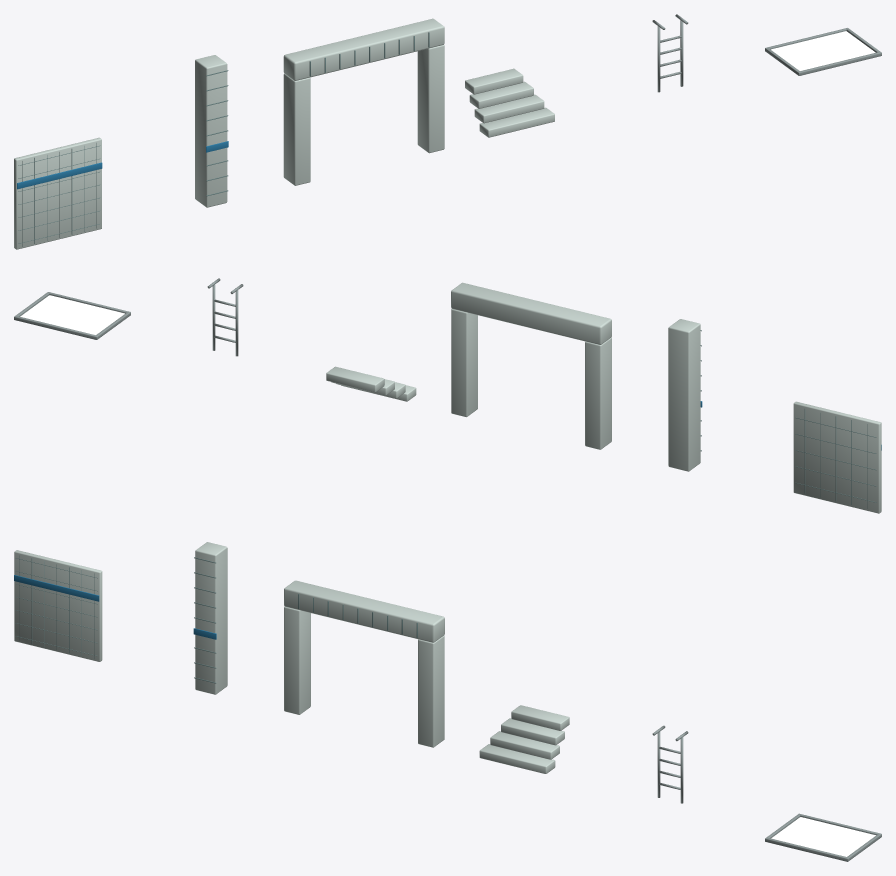
3 renders of one model, top to bottom at view 1: azimuth 30°, elevation 25°; view 2: azimuth 150°, elevation 25°; view 3: azimuth 330°, elevation 25°, orthographic.
Parts seen in each view (by area): view 1: tile_panel_core, pillar_core, arch_header, arch_jamb, arch_jamb.001, skylight_diffuser, pool_step, pool_step.001, pool_step.002, pool_step.003, waterline_mosaic; view 2: tile_panel_core, pillar_core, arch_header, arch_jamb, arch_jamb.001, skylight_diffuser, pool_step.003; view 3: tile_panel_core, pillar_core, arch_header, arch_jamb.001, arch_jamb, skylight_diffuser, pool_step, pool_step.001, pool_step.002, pool_step.003.
Part boxes in pixels (left/top/right/bottom): tile_panel_core: left=14, top=137, right=101, bottom=249; pillar_core: left=195, top=55, right=227, bottom=207; arch_header: left=283, top=18, right=444, bottom=80; arch_jamb: left=283, top=73, right=310, bottom=185; arch_jamb.001: left=417, top=45, right=444, bottom=153; skylight_diffuser: left=771, top=31, right=875, bottom=70; pool_step: left=479, top=107, right=554, bottom=137; pool_step.001: left=474, top=94, right=544, bottom=123; pool_step.002: left=469, top=81, right=533, bottom=108; pool_step.003: left=465, top=68, right=523, bottom=94; waterline_mosaic: left=17, top=162, right=102, bottom=189; tile_panel_core: left=793, top=401, right=881, bottom=513; pillar_core: left=668, top=319, right=700, bottom=471; arch_header: left=451, top=282, right=611, bottom=344; arch_jamb: left=585, top=337, right=611, bottom=449; arch_jamb.001: left=451, top=309, right=477, bottom=417; skylight_diffuser: left=20, top=295, right=124, bottom=334; pool_step.003: left=326, top=366, right=384, bottom=392; tile_panel_core: left=14, top=550, right=102, bottom=661; pillar_core: left=195, top=542, right=227, bottom=694; arch_header: left=284, top=580, right=444, bottom=642; arch_jamb.001: left=418, top=635, right=444, bottom=747; arch_jamb: left=284, top=606, right=310, bottom=714; skylight_diffuser: left=771, top=817, right=875, bottom=856; pool_step: left=479, top=744, right=555, bottom=773; pool_step.001: left=490, top=731, right=559, bottom=759; pool_step.002: left=501, top=718, right=564, bottom=745; pool_step.003: left=511, top=705, right=569, bottom=730.
Size of the model in its own units: 17.77 by 2.83 by 1.63.
